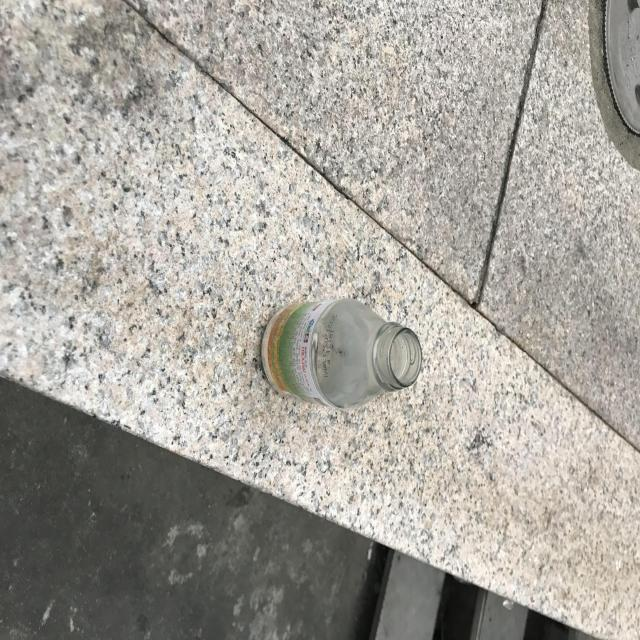glass: (262, 299, 422, 409)
